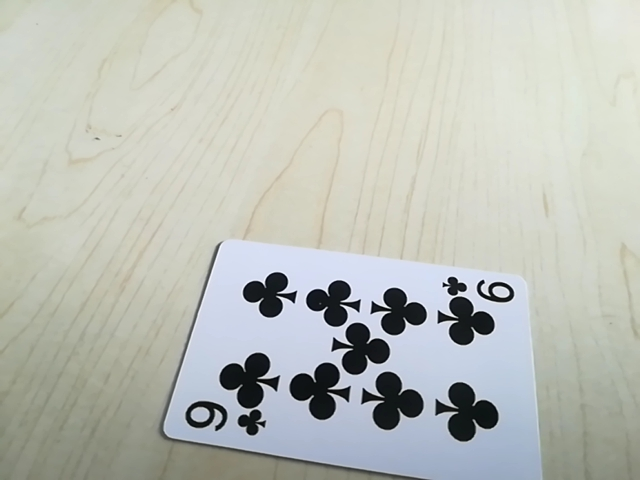mh 9: (178, 402, 270, 438), (442, 273, 518, 305)
